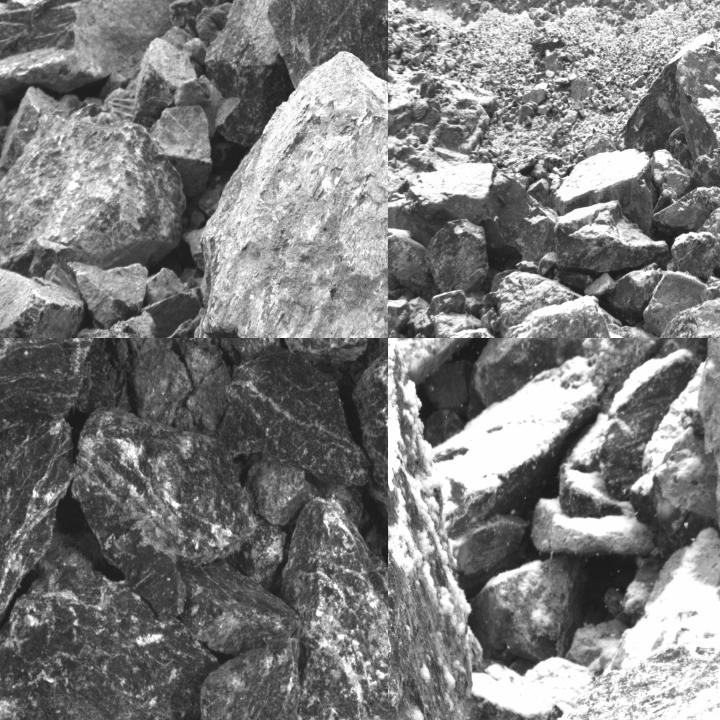stone: (200, 50, 387, 337), (74, 409, 286, 614), (0, 527, 219, 719), (0, 110, 187, 294), (388, 338, 473, 719), (281, 497, 387, 719), (213, 348, 373, 483), (0, 418, 73, 700), (267, 0, 387, 167), (73, 0, 311, 82), (388, 162, 554, 265), (511, 640, 719, 719), (0, 338, 120, 459), (472, 556, 589, 664), (469, 338, 634, 410), (179, 558, 301, 654), (630, 432, 716, 554), (193, 638, 300, 719), (554, 202, 669, 275), (556, 145, 652, 227), (614, 49, 690, 152), (355, 338, 387, 562), (461, 296, 617, 337), (675, 47, 719, 190), (579, 338, 681, 399), (132, 37, 197, 130), (0, 268, 86, 337), (450, 514, 530, 579), (246, 457, 319, 524), (427, 219, 489, 291), (643, 270, 713, 330), (558, 464, 633, 518), (609, 263, 666, 322), (388, 229, 432, 292), (654, 186, 719, 227), (655, 296, 719, 337), (68, 309, 159, 337), (178, 338, 285, 359), (669, 230, 716, 276), (650, 147, 694, 193), (282, 338, 364, 362), (692, 145, 719, 196)
